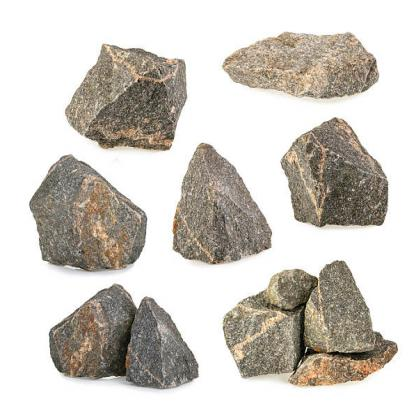Metamorphic_Marble: (15, 156, 150, 277), (155, 138, 278, 268), (55, 35, 190, 148), (278, 100, 393, 231), (230, 25, 388, 98), (32, 282, 128, 388), (125, 283, 201, 392), (303, 245, 379, 354), (213, 291, 312, 372)
